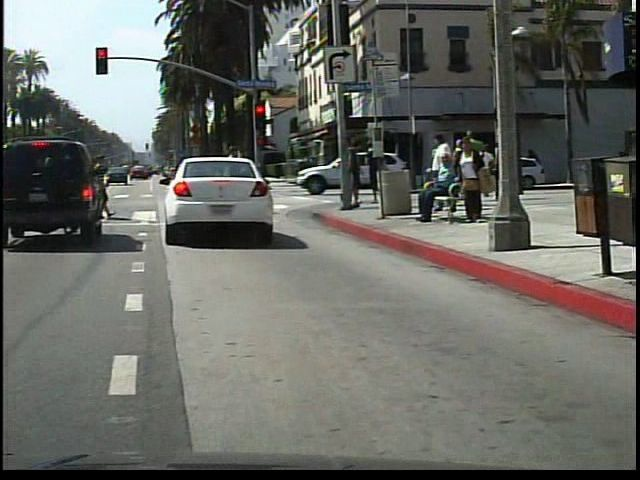person: (457, 133, 494, 231), (420, 154, 466, 224), (220, 140, 257, 218)
